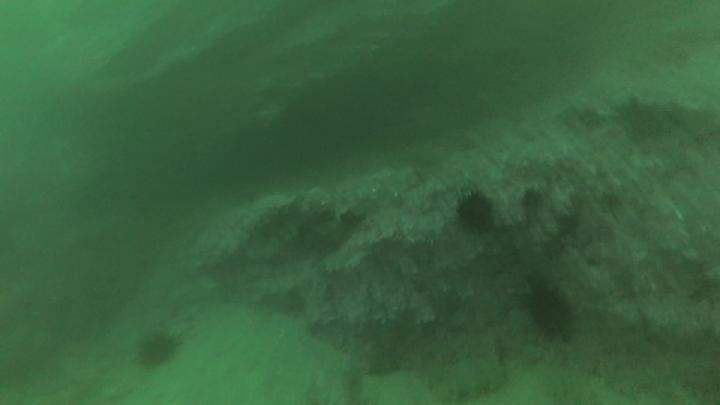echinus: (521, 276, 579, 344), (133, 328, 182, 371), (453, 189, 497, 234)
